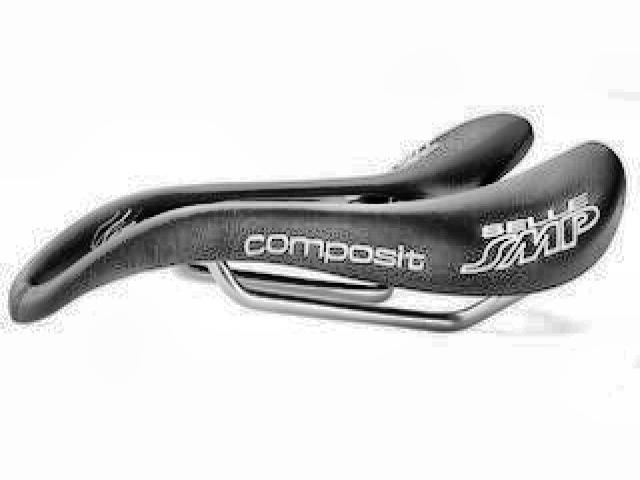saddle: (5, 110, 630, 336)
